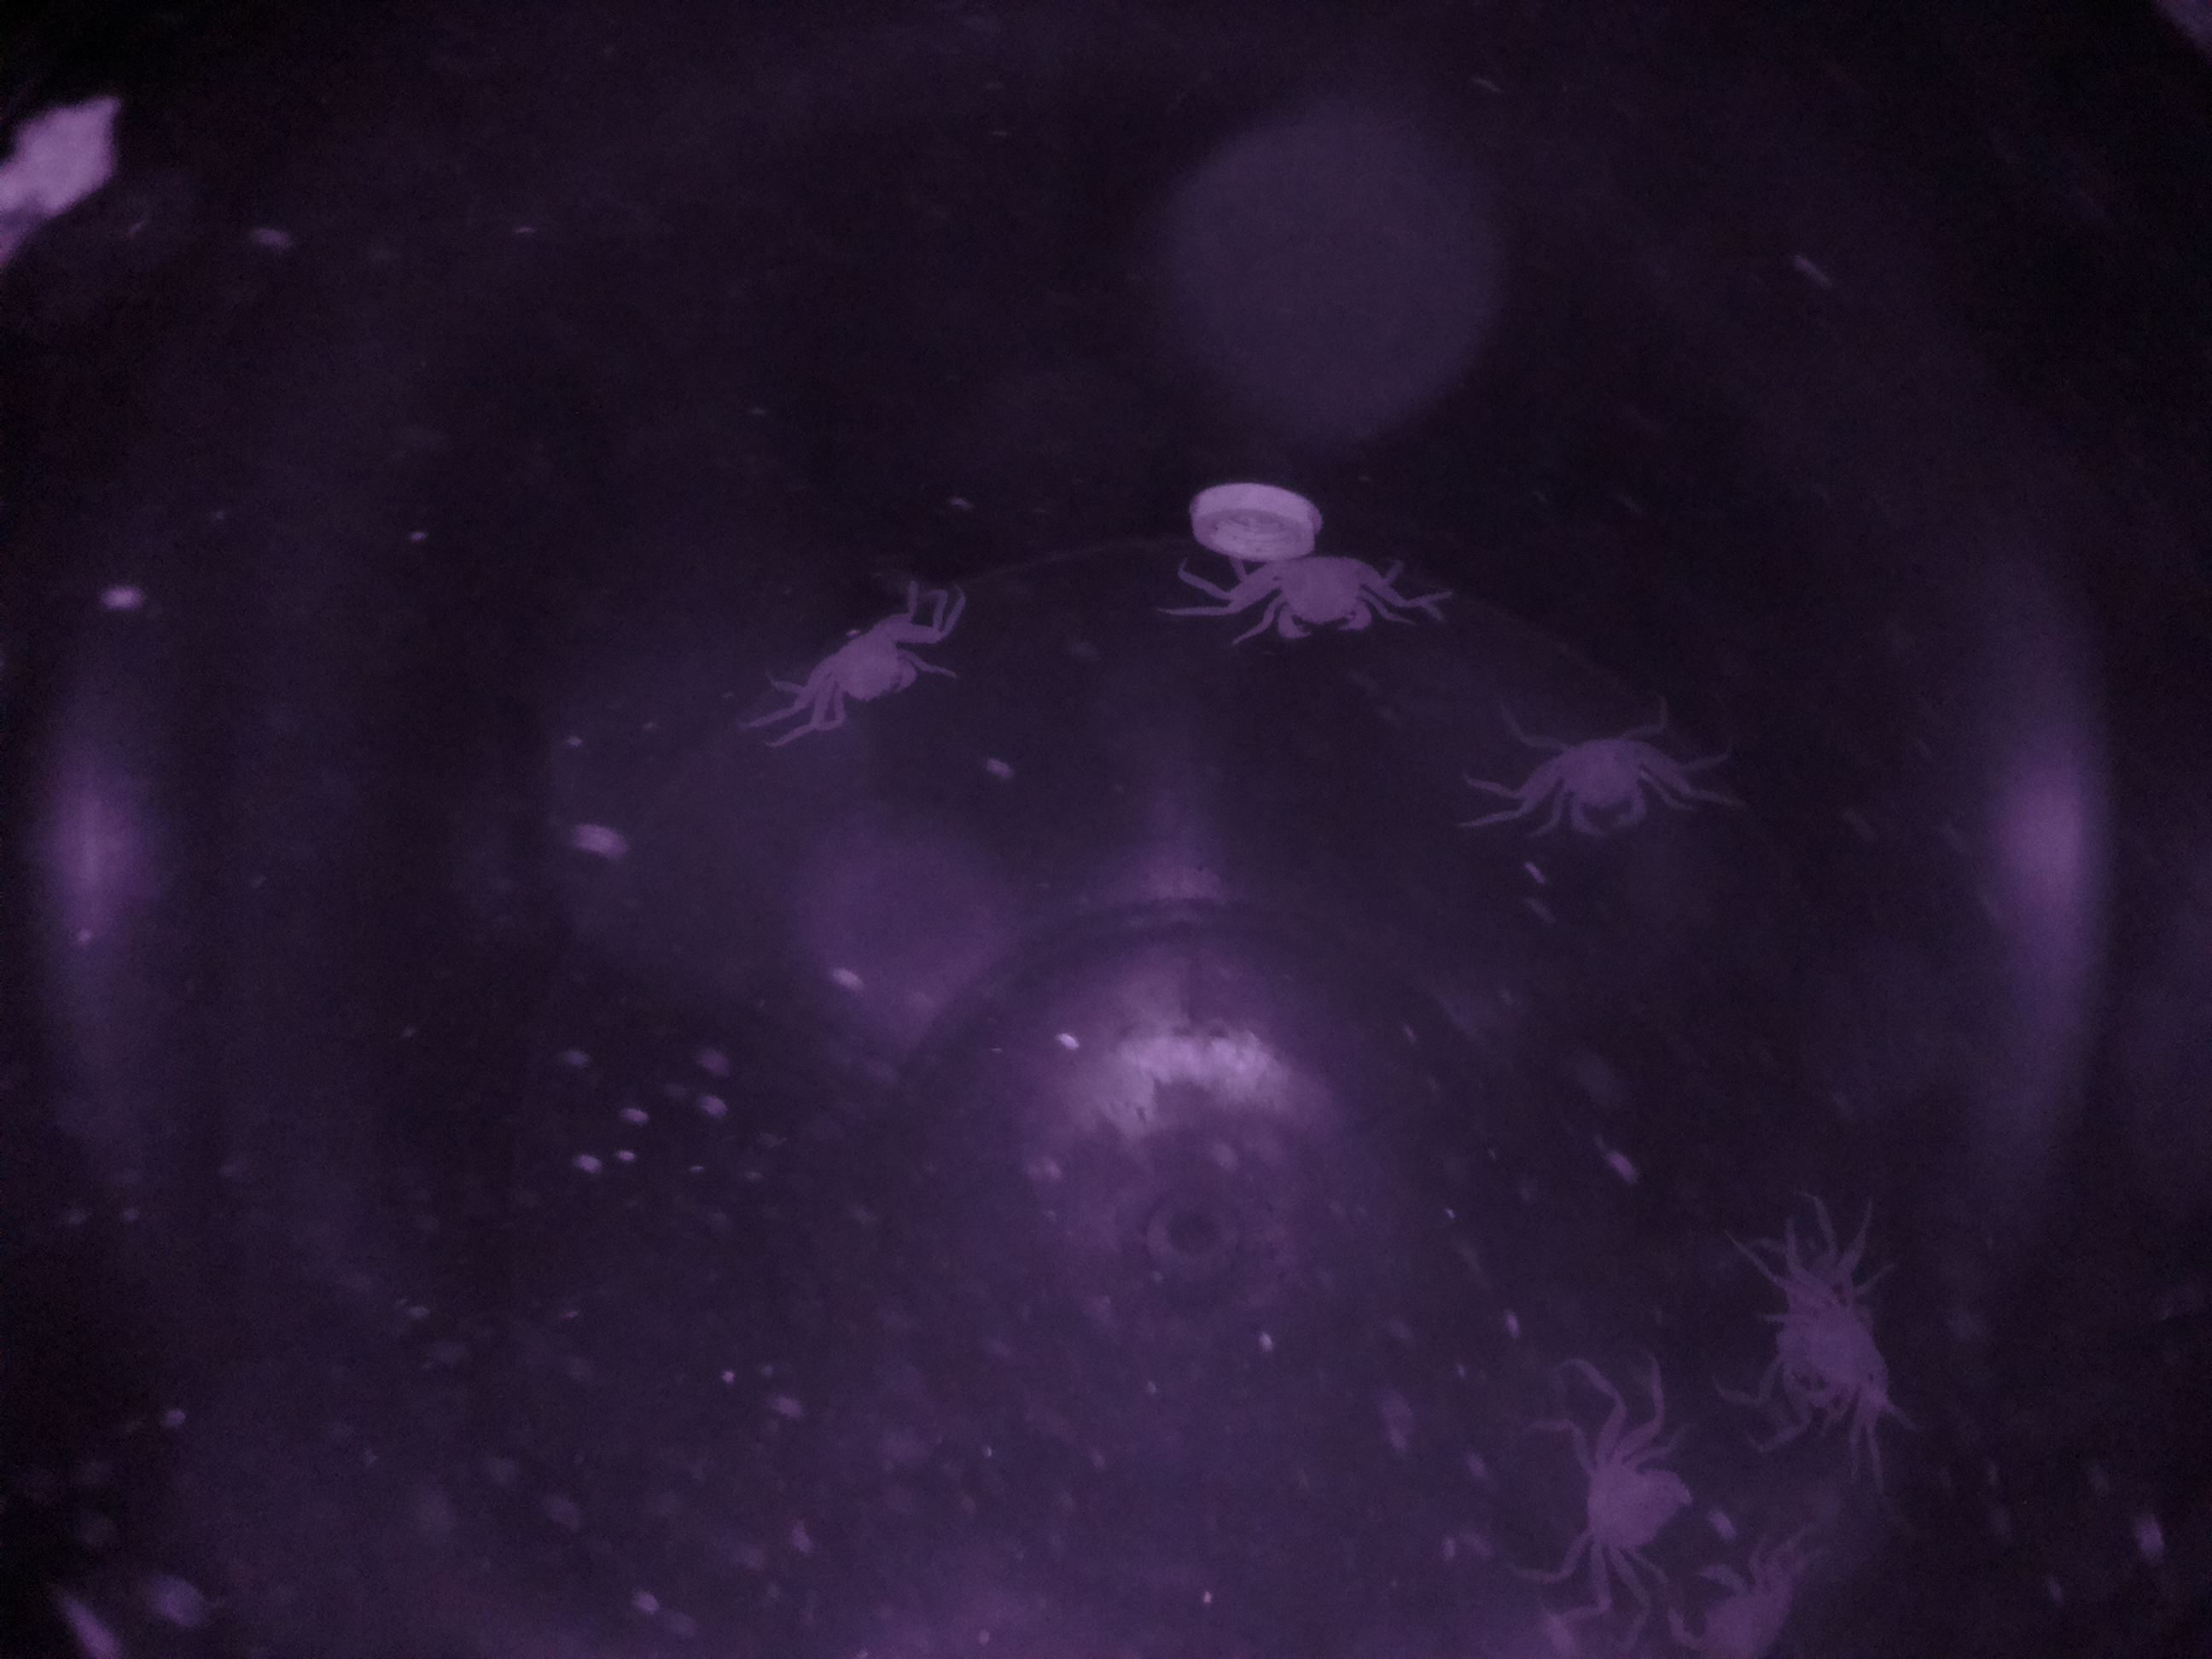Crab: (1547, 1417, 1698, 1614), (1505, 716, 1710, 838), (1209, 544, 1406, 641), (784, 594, 949, 708)
